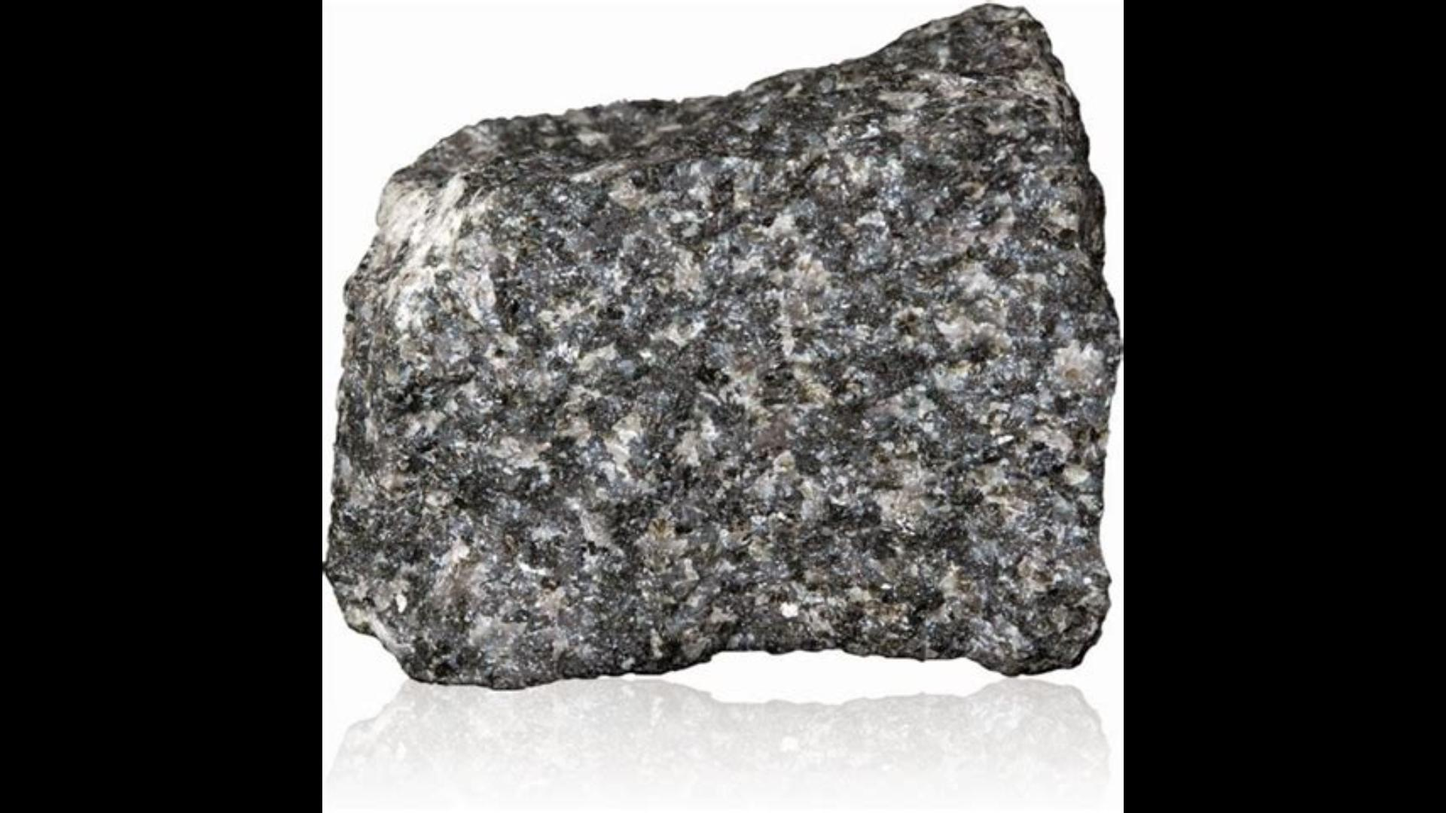rock: (326, 7, 1119, 686)
